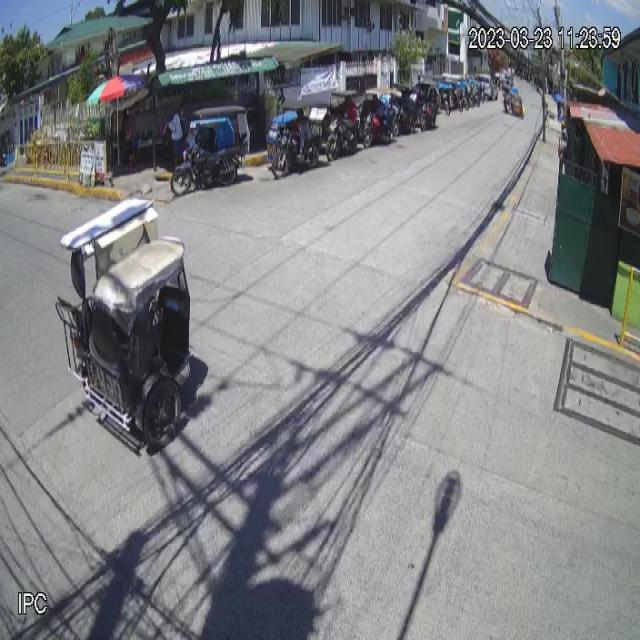Tricycle: (55, 196, 196, 450)
